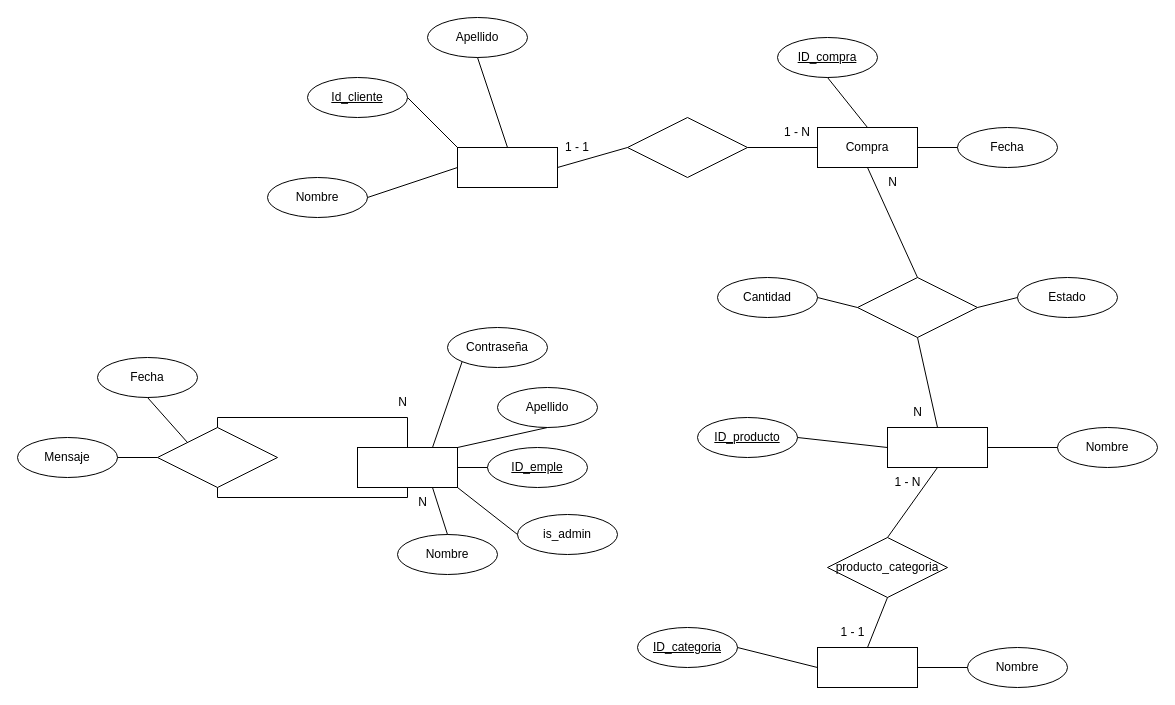
This 1175x705 diagram has some shape labels left out. The box of each missing label's shape, as (x1, y1, x2, y2) in pixels:
Categoria: (816, 646, 918, 688)
Cliente: (456, 146, 558, 188)
cliente_compra: (626, 116, 748, 178)
Comunican: (156, 426, 278, 488)
contenido_compra: (856, 276, 978, 338)
Empleados: (356, 446, 458, 488)
Producto: (886, 426, 988, 468)
